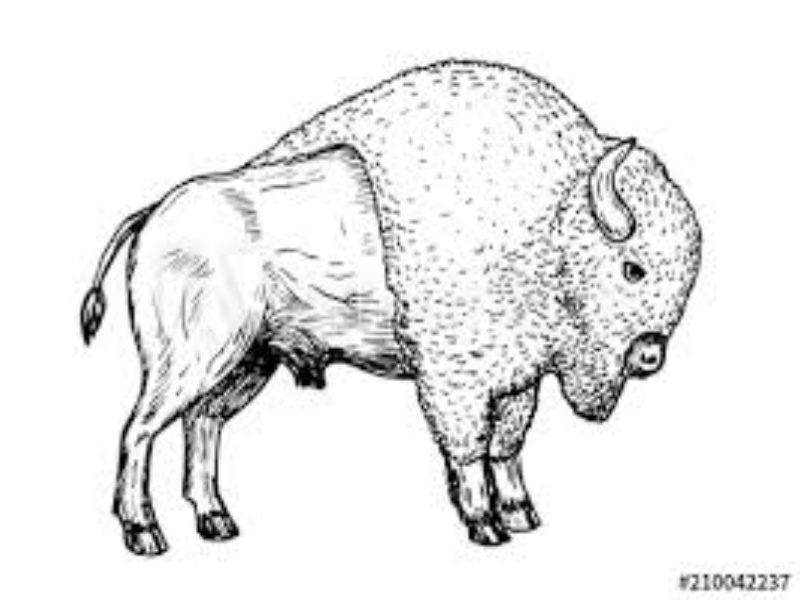buffalo: (80, 56, 709, 563)
